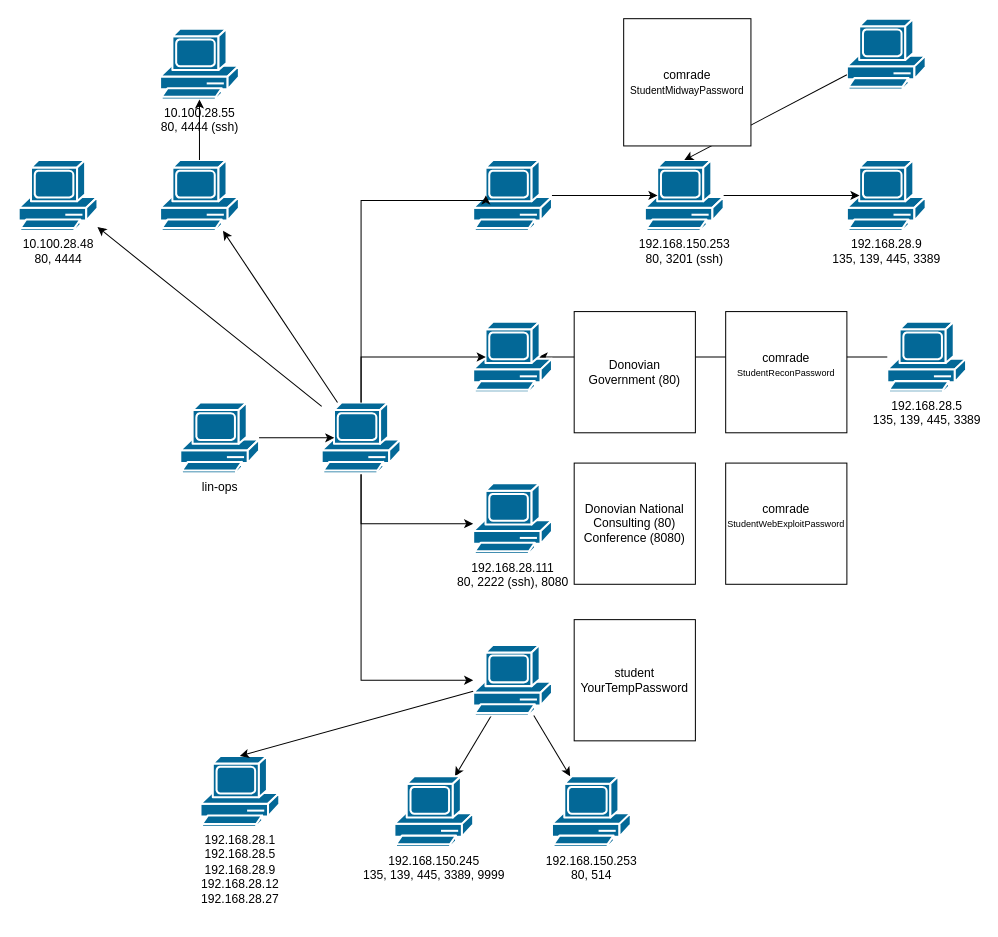
The diagram is 998 pixels wide and 937 high, and some of its shapes have lost their labels. The box of each missing label's shape, as (x1, y1, x2, y2) in pixels:
10.100.28.40 80, 4444 (ssh): (159, 159, 239, 231)
192.168.28.100 80, 2222 (ssh): (472, 159, 552, 231)
192.168.28.105 21, 23, 2222 (ssh): (472, 320, 552, 393)
192.168.28.135 20000 (ssh): (845, 17, 926, 90)
grey 192.168.28.120 4242 (ssh): (472, 643, 552, 716)
Jump 10.50.15.8: (320, 401, 401, 474)
